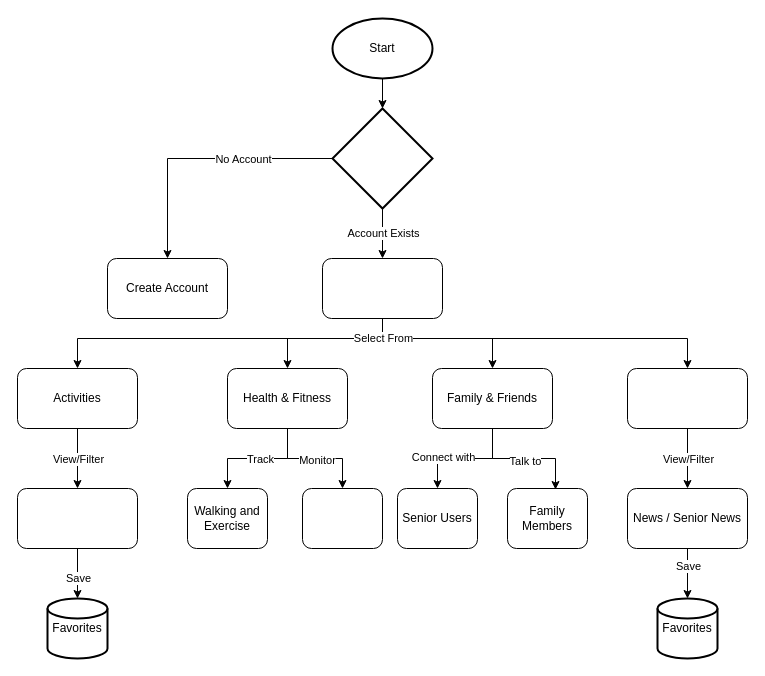
This 765x676 diagram has some shape labels left out. Each missing label, with the centre of its shape:
Login: point (382, 158)
Nearby Senior Activities: point (77, 518)
News: point (687, 398)
View Dashboard: point (382, 288)
Water Intake: point (342, 518)
